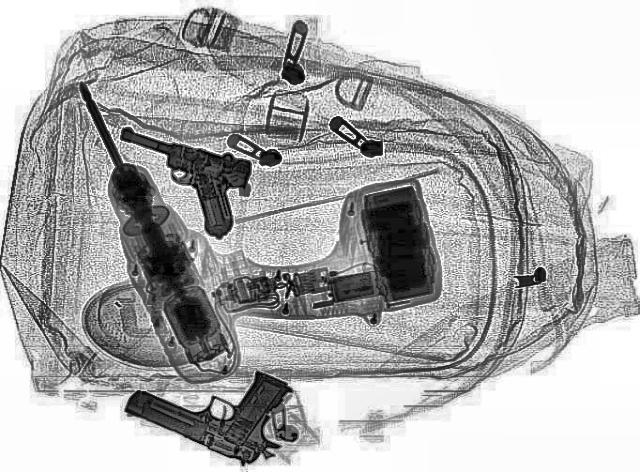Gun: (111, 340, 316, 469), (78, 126, 268, 240)
